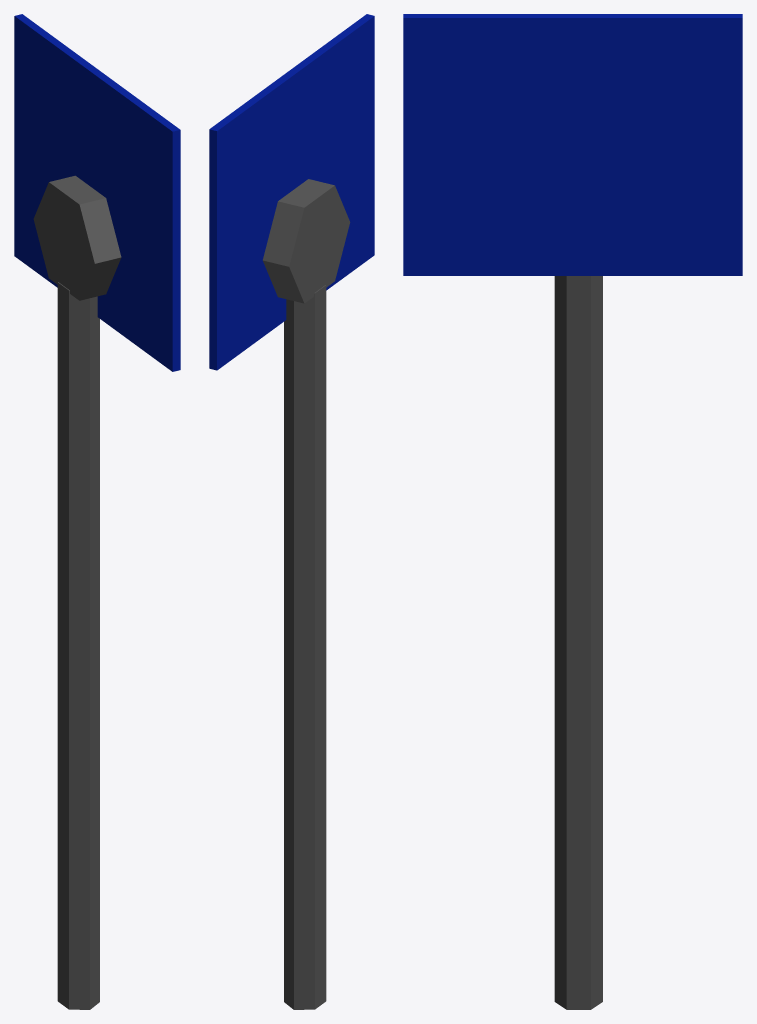
Rendered from placa de onibus.fbx.
3 renders of one model, left to right at view 1: azimuth 30°, elevation 25°; view 2: azimuth 150°, elevation 25°; view 3: azimuth 270°, elevation 25°, orthographic. The views are drawn at different scales.
Visible parts, largest first — view 1: Cube, Cylinder, Cylinder.001; view 2: Cube, Cylinder, Cylinder.001; view 3: Cube, Cylinder.
Part boxes in pixels (x1=…): Cube: x1=14, y1=14, x2=180, y2=371; Cylinder: x1=57, y1=282, x2=99, y2=1009; Cylinder.001: x1=33, y1=175, x2=121, y2=300; Cube: x1=209, y1=14, x2=374, y2=370; Cylinder: x1=284, y1=285, x2=326, y2=1009; Cylinder.001: x1=262, y1=179, x2=350, y2=303; Cube: x1=403, y1=14, x2=742, y2=275; Cylinder: x1=554, y1=276, x2=602, y2=1009.
Bounding box in the file's own units: 50.77 × 1272 × 393.
